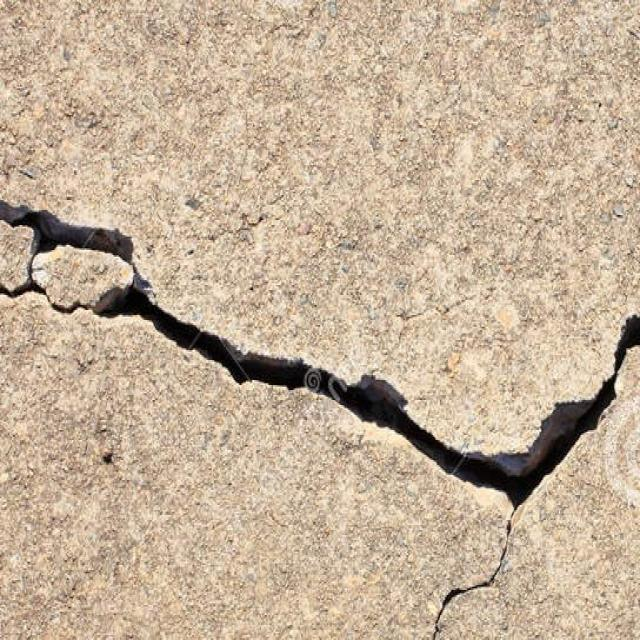Diagonal: (182, 302, 431, 512), (558, 303, 640, 511)
Network: (430, 438, 551, 640)
Turtle-shell patterned: (4, 186, 167, 366)
